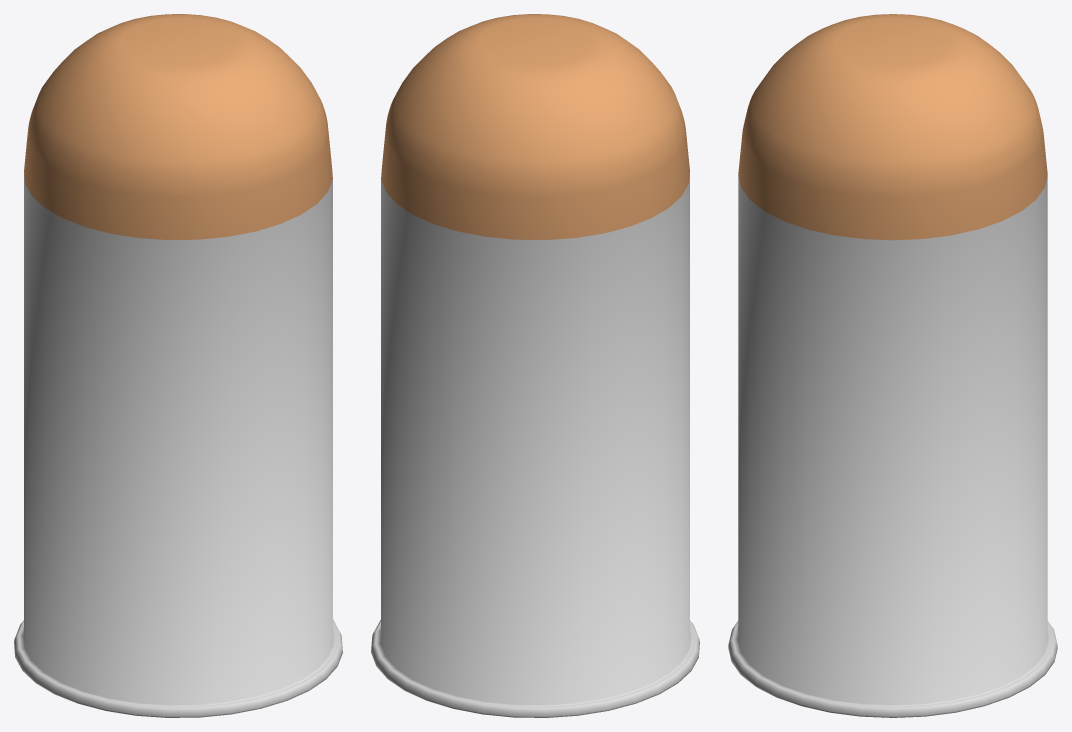
The model's file is Bullet.fbx.
The picture shows the model from 3 angles, left to right: view 1: azimuth 30°, elevation 25°; view 2: azimuth 150°, elevation 25°; view 3: azimuth 270°, elevation 25°; orthographic projection.
Visible parts, largest first — view 1: Cylinder; view 2: Cylinder; view 3: Cylinder.
Boxes of the visible parts, <box> form: Cylinder: <box>14,14,342,717</box>; Cylinder: <box>371,14,699,717</box>; Cylinder: <box>728,14,1057,717</box>.
Bounding box in the file's own units: 213 × 432 × 213.
